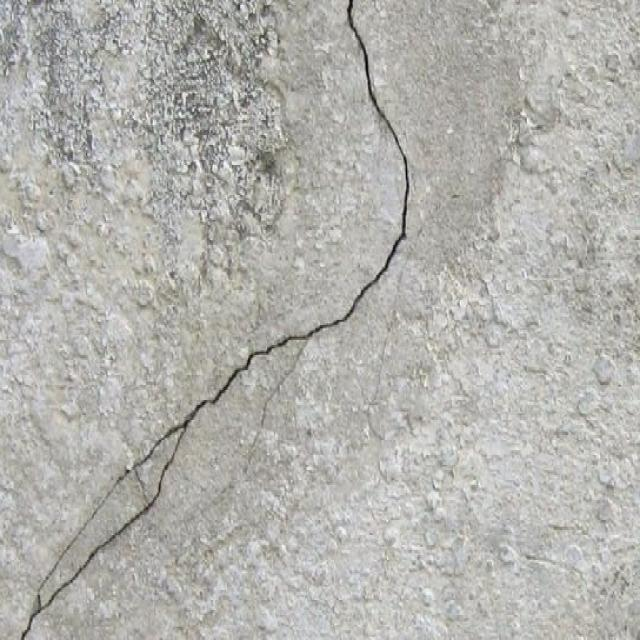crack: (18, 276, 384, 638), (346, 2, 412, 275)
